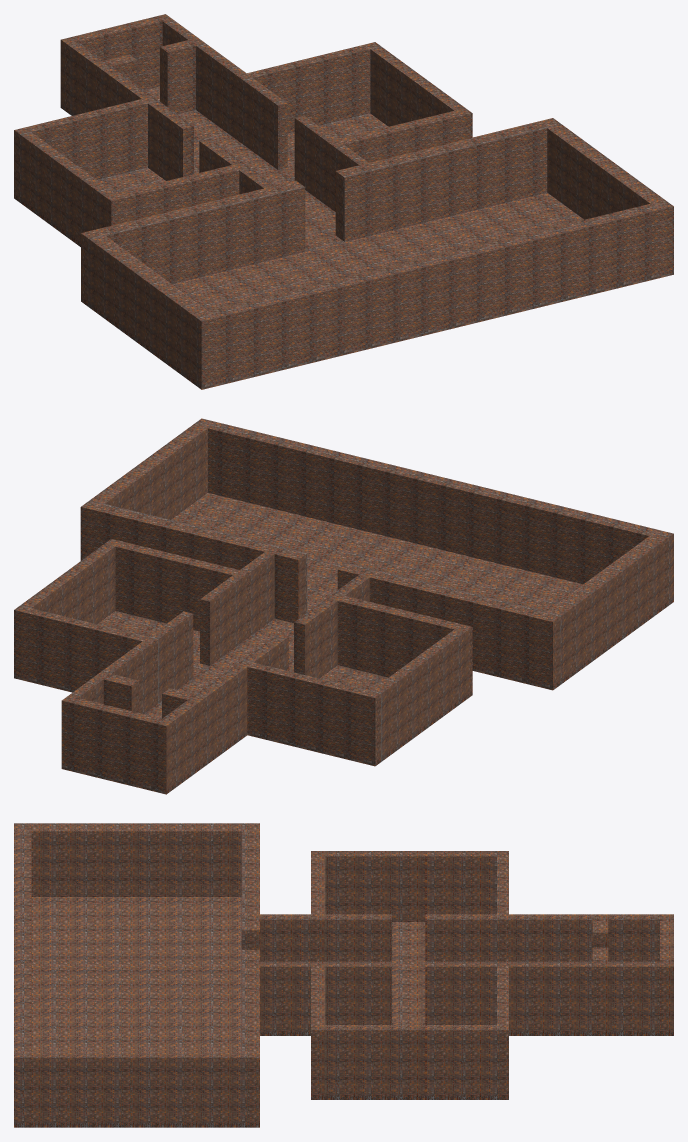
The model's file is demoroom.gltf.
3 renders of one model, top to bottom at view 1: azimuth 30°, elevation 25°; view 2: azimuth 150°, elevation 25°; view 3: azimuth 270°, elevation 25°, orthographic.
Parts seen in each view (by area): view 1: Cube; view 2: Cube; view 3: Cube.
Part boxes in pixels (bbox=[...]): Cube: bbox=[14, 14, 673, 389]; Cube: bbox=[14, 418, 673, 794]; Cube: bbox=[14, 823, 673, 1127].
Bounding box in the file's own units: 250 × 34.51 × 297.
1 material, 1 textured.
